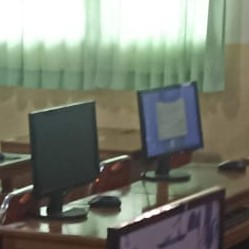monitor: (107, 185, 226, 248), (28, 100, 100, 198), (137, 81, 204, 163)
